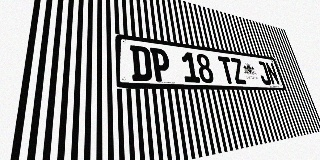1: (180, 51, 200, 83)
8: (195, 53, 215, 83)
D: (130, 45, 153, 81)
J: (256, 61, 272, 85)
N: (265, 62, 280, 85)
P: (150, 47, 172, 82)
T: (217, 56, 236, 84)
Z: (229, 57, 247, 84)
